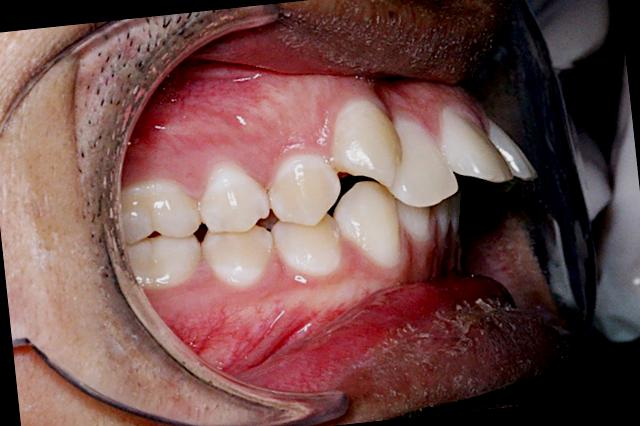canine class II 3/4: (261, 87, 418, 293)
molar class II 3/4: (108, 175, 208, 299)
